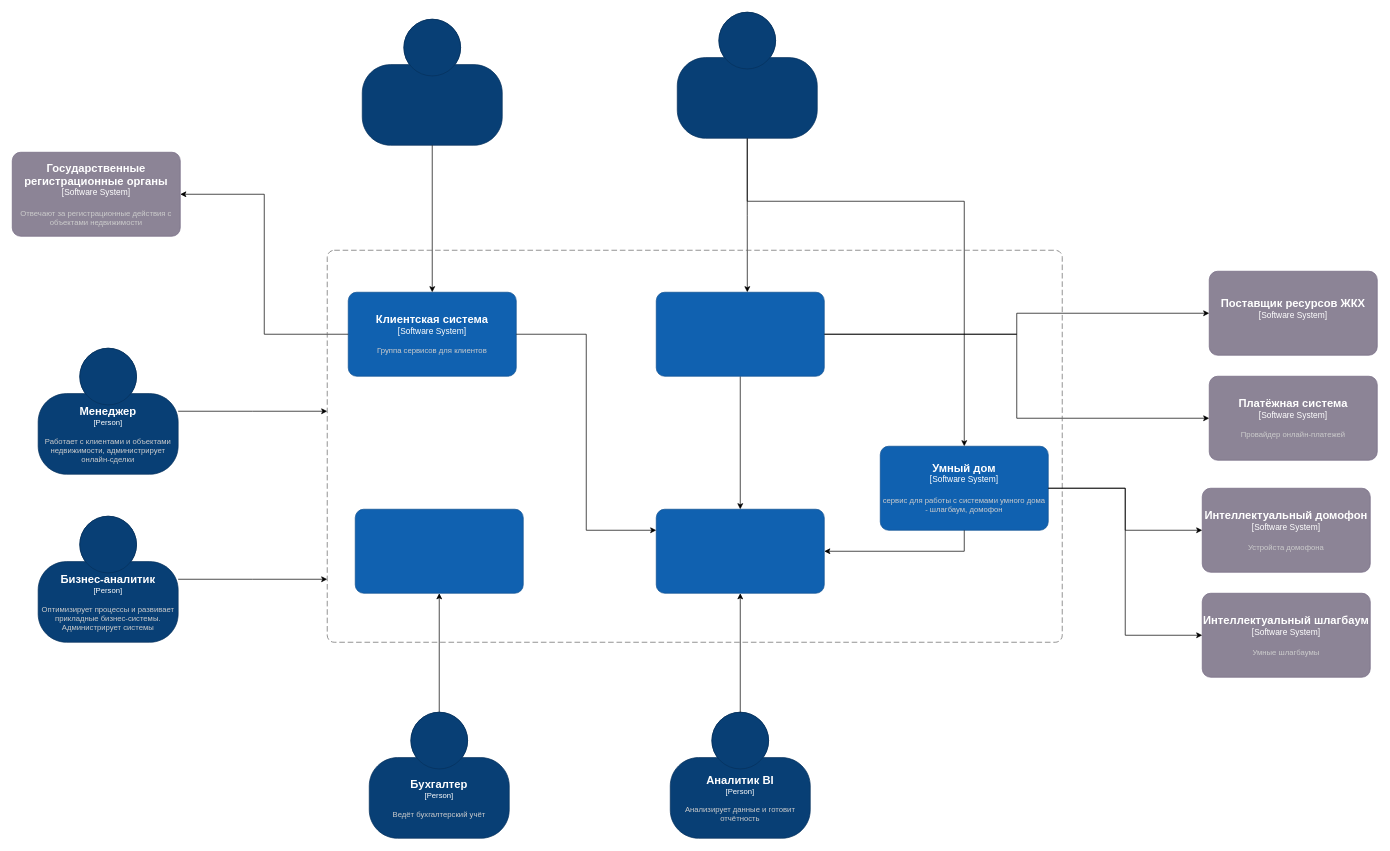
This 1390x851 diagram has some shape labels left out. Here are the shapes that lost their labels. From the top down, the box of each, then its label:
(362, 19, 502, 145): Клиент [Person] Клиент
(677, 12, 817, 138): Собственник [Person] Клиент
(656, 292, 824, 376): Услуги ЖКХ [Software System] сервис для предоставления услуг, БД, CRM
(327, 250, 1062, 642): PropDevelopment [Software System]
(355, 509, 523, 593): Система финансового учёта [Software System] Сервис учёта, БД и служба каталогов.
(656, 509, 824, 593): Система хранения данных [Software System] Хранилище, BI и отчётность
